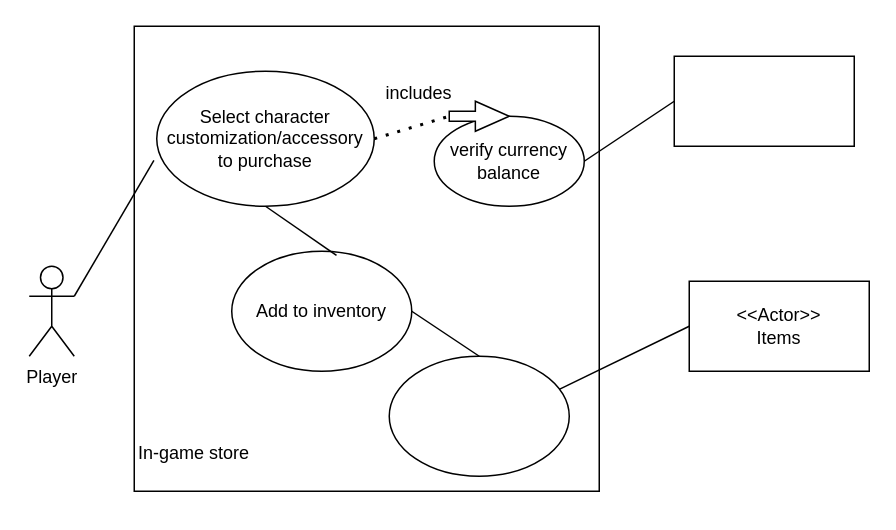
The diagram is 896 pixels wide and 530 high, and some of its shapes have lost their labels. The centre of each missing label's shape, as x and y in pixels:
<<Actor>> Wallet: pixel 763 100
Update hokie character/housing: pixel 478 415
